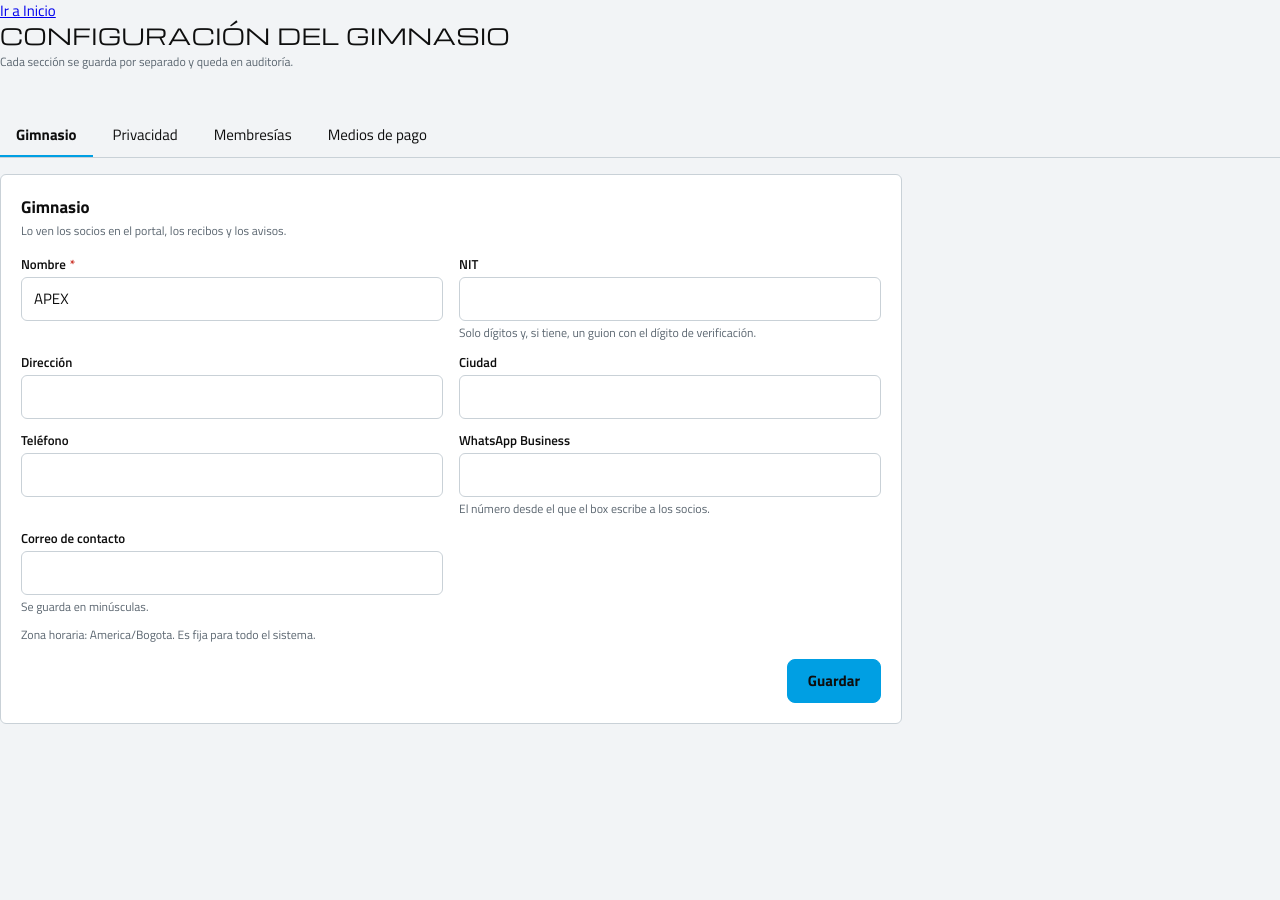
Test: ConfigPage › con cambios sin guardar, Descartar cambios lleva a la otra pestaña
Type " Norte" into the field labelled "Nombre*". click: {"x": 232, "y": 299}
box: [21, 277, 443, 321]
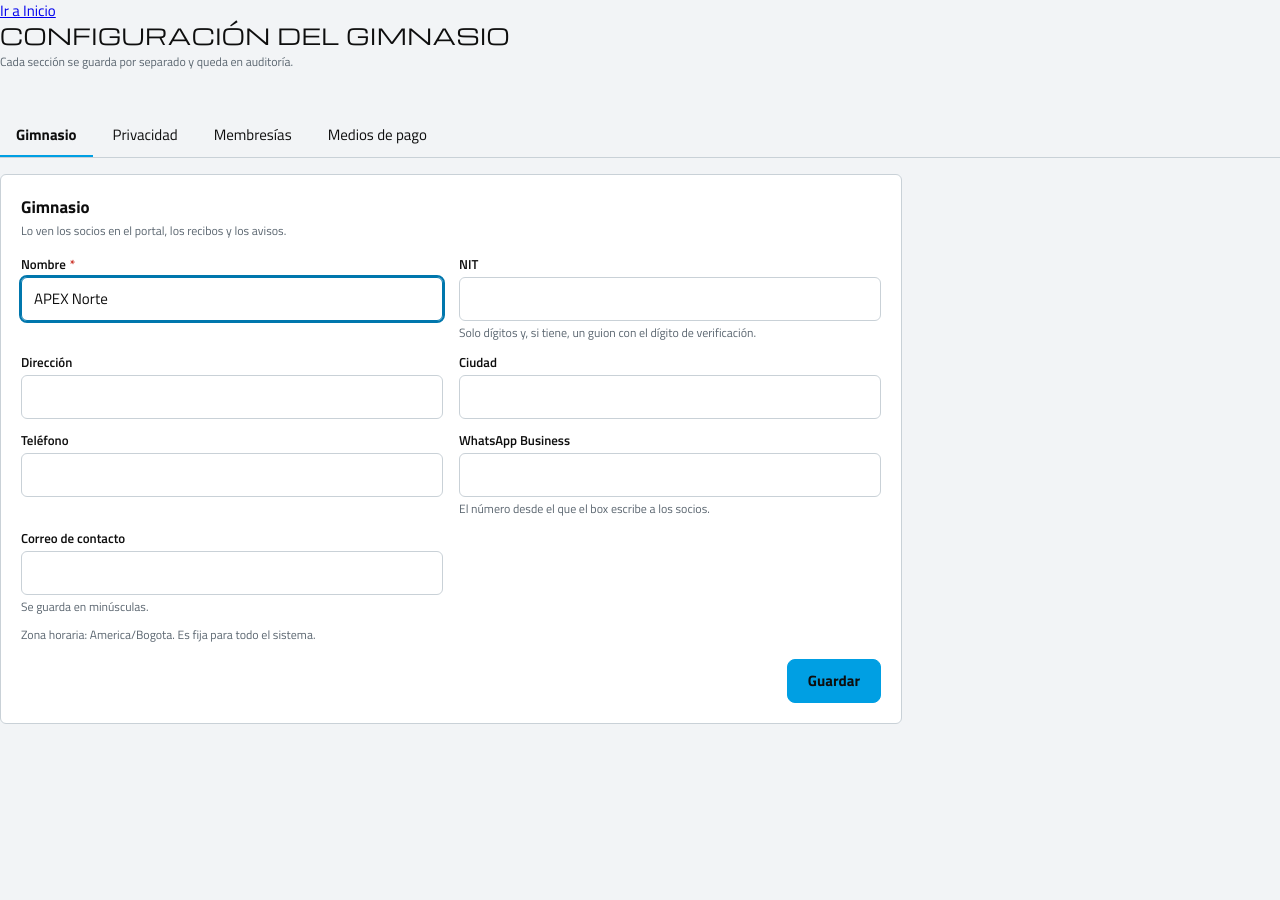
Click the tab "Privacidad". click: {"x": 145, "y": 136}
box: [96, 114, 194, 158]
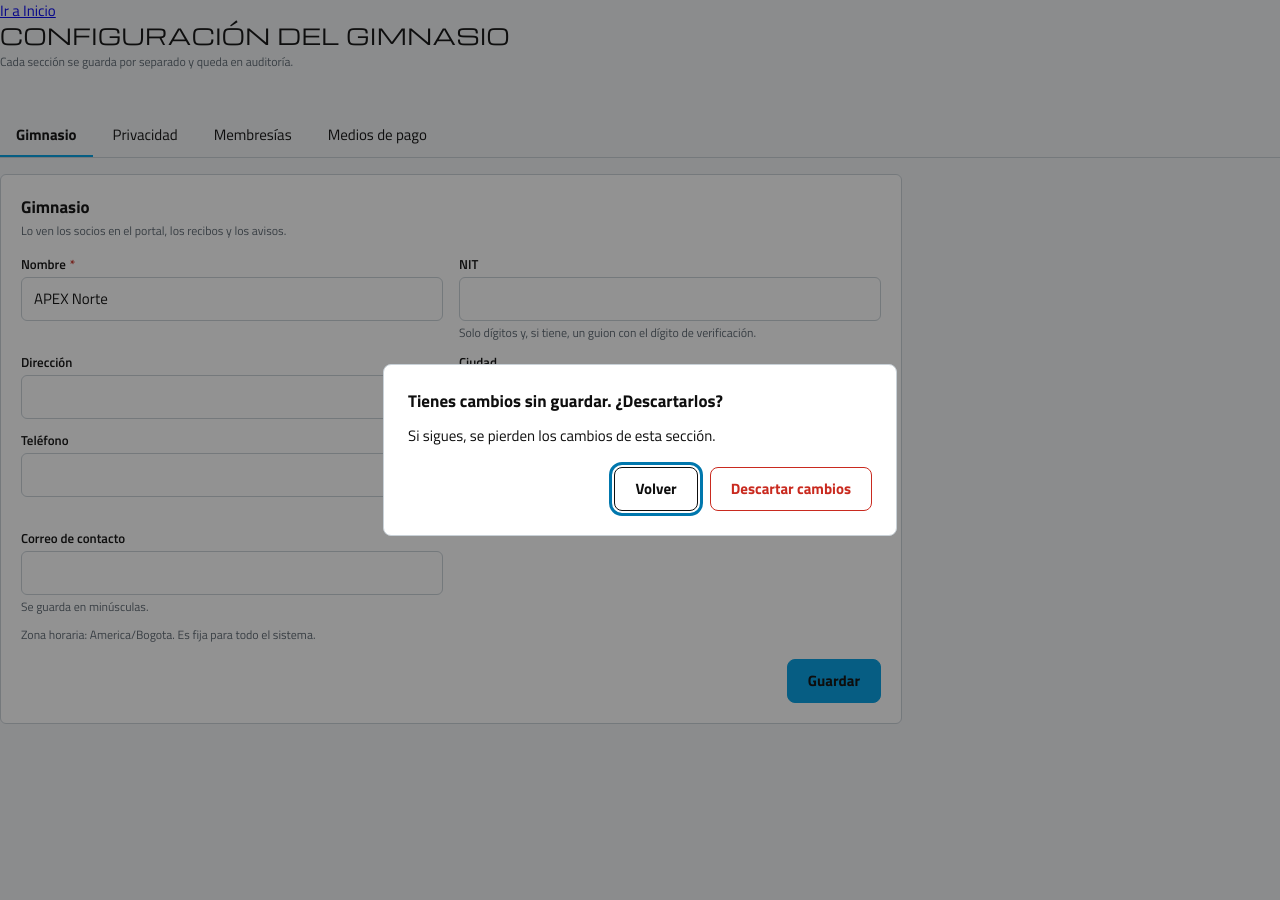
Click the button "Descartar cambios". click: {"x": 791, "y": 489}
box: [710, 467, 872, 511]
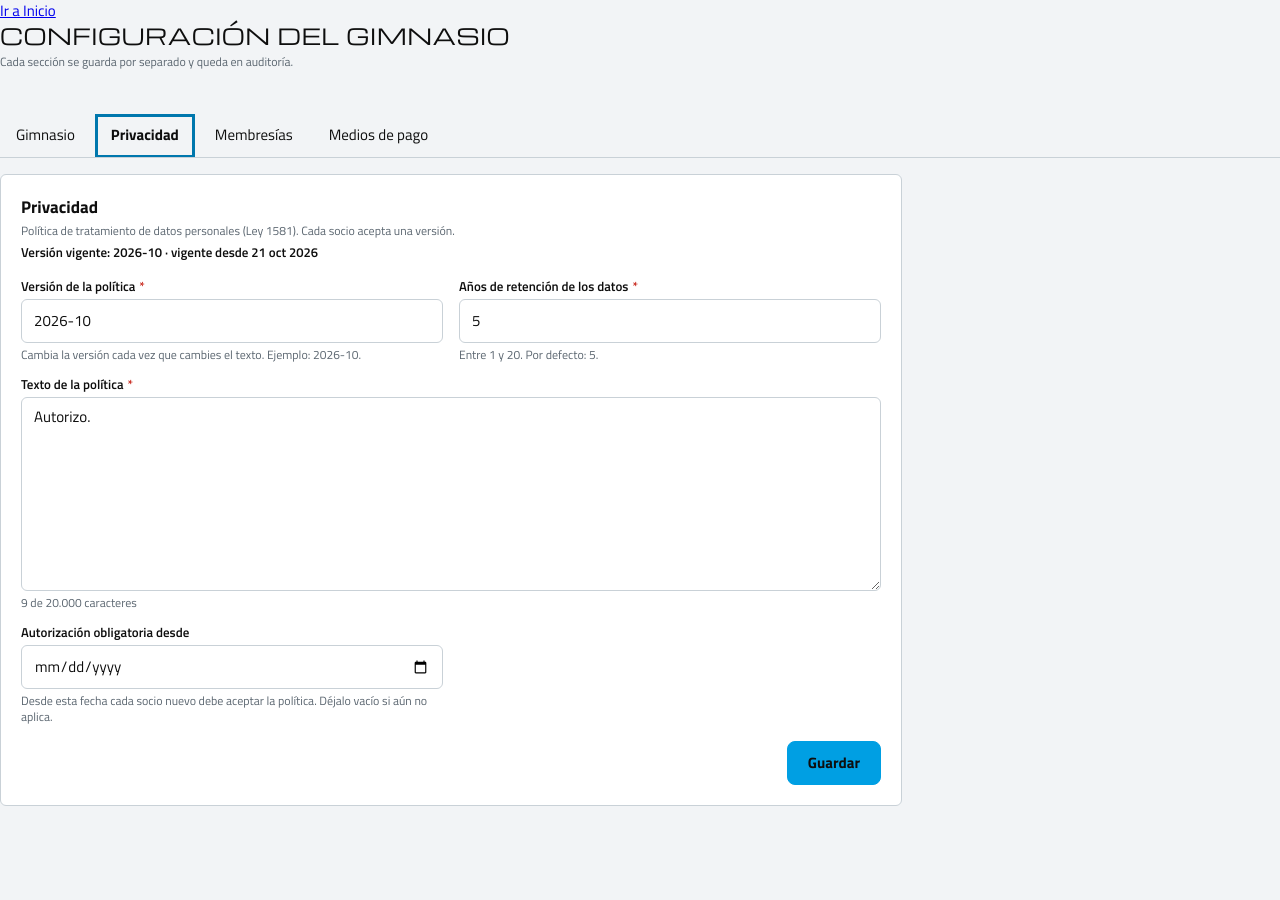
Check: the field labelled "Versión de la política*" is shown, box [21, 299, 443, 343]
Check: the dialog is gone
